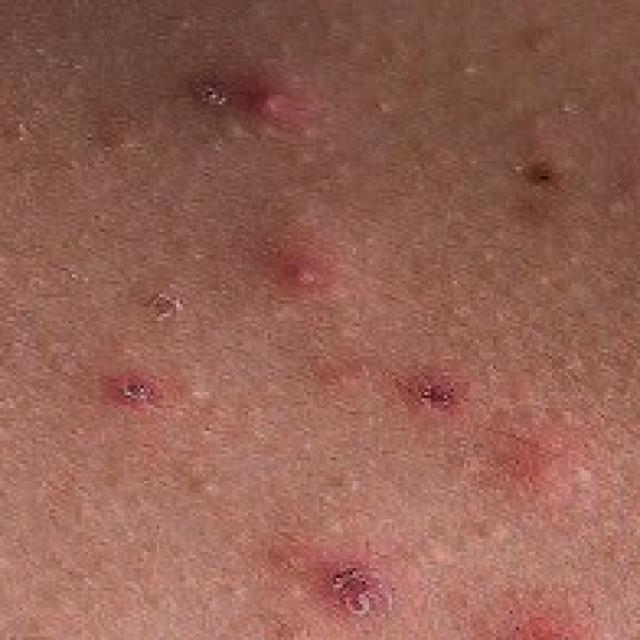acne: (150, 42, 320, 146), (268, 536, 408, 636), (78, 327, 200, 421), (506, 121, 607, 209), (268, 228, 352, 310), (388, 346, 476, 424)
